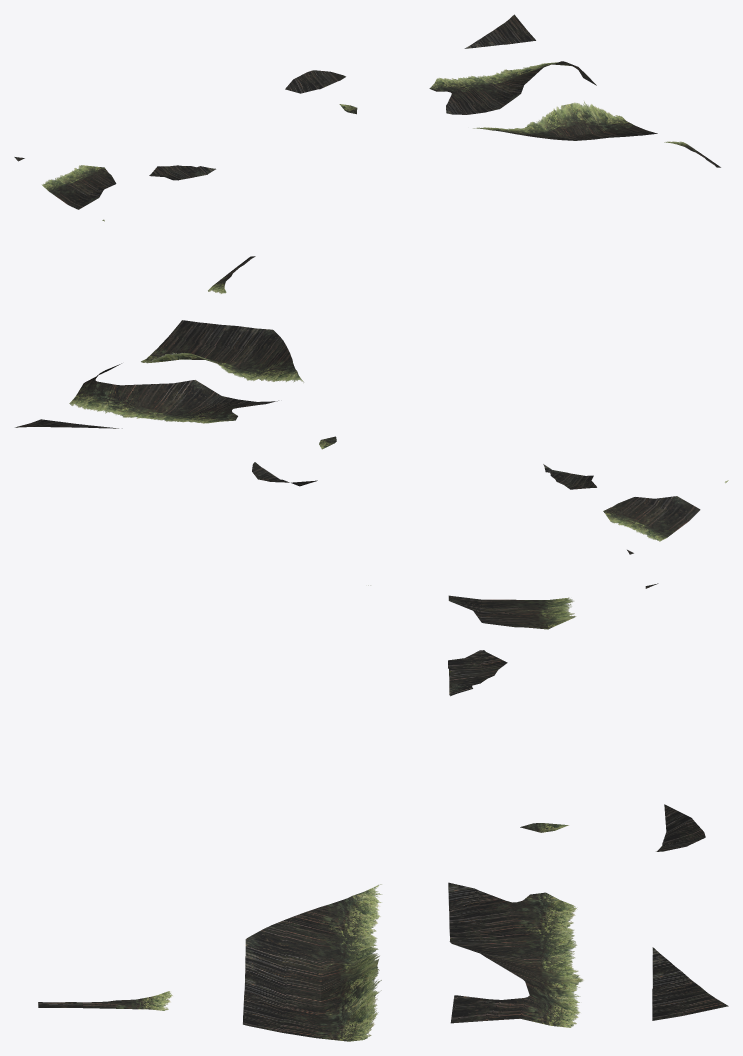
The model's file is SM_NeoLD_03_UnderwaterSteps_00.fbx.
3 views of the same model, one above another, from view 1: azimuth 30°, elevation 25°; view 2: azimuth 150°, elevation 25°; view 3: azimuth 270°, elevation 25° (orthographic). The views are drawn at different scales.
Parts seen in each view (by area): view 1: SM_NeoLD_03_UnderwaterSteps_00; view 2: SM_NeoLD_03_UnderwaterSteps_00; view 3: SM_NeoLD_03_UnderwaterSteps_00.
Part boxes in pixels (box(x1,y1,x2,y2)): SM_NeoLD_03_UnderwaterSteps_00: box(14, 14, 720, 221); SM_NeoLD_03_UnderwaterSteps_00: box(15, 256, 728, 554); SM_NeoLD_03_UnderwaterSteps_00: box(38, 583, 728, 1041).
Bounding box in the file's own units: 4702 × 193 × 3352.
